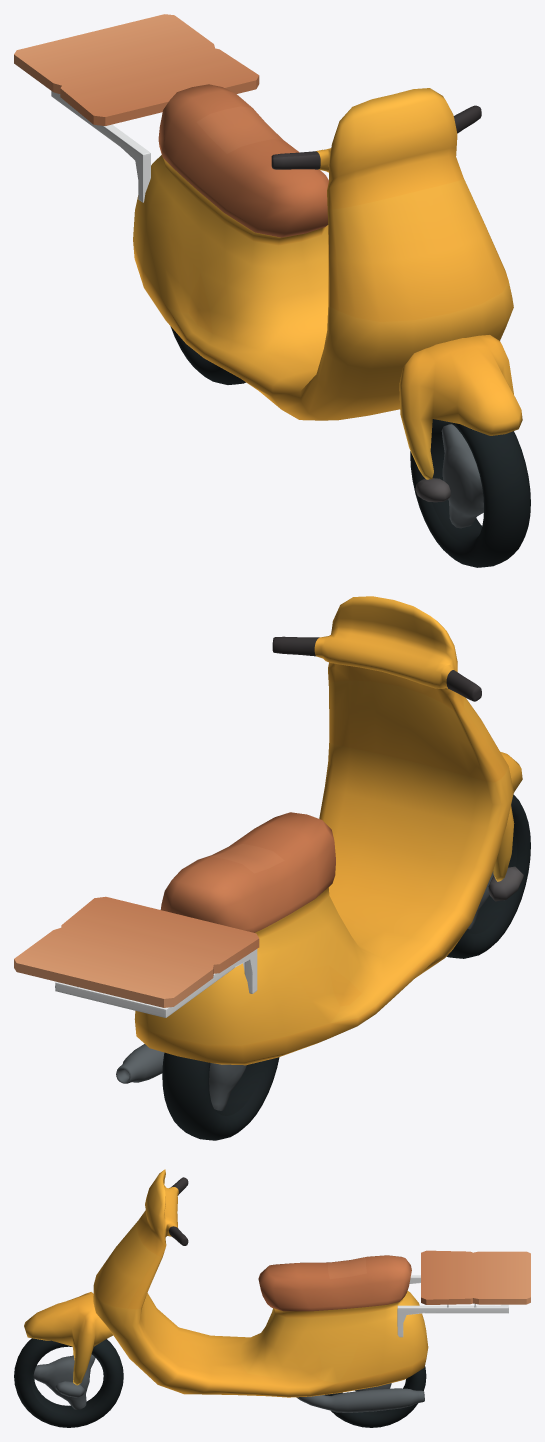
File: MOTO ROLO.fbx
3 views of the same model, one above another, from view 1: azimuth 30°, elevation 25°; view 2: azimuth 150°, elevation 25°; view 3: azimuth 270°, elevation 25° (orthographic). The views are drawn at different scales.
Visible parts, largest first — view 1: Plane; view 2: Plane; view 3: Plane.
Part boxes in pixels (x1,y1,x2,y2): Plane: (14,14,530,567); Plane: (14,596,530,1140); Plane: (14,1169,530,1427).
Size of the model in its own units: 128 by 451 by 239.
1 material, 1 textured.
